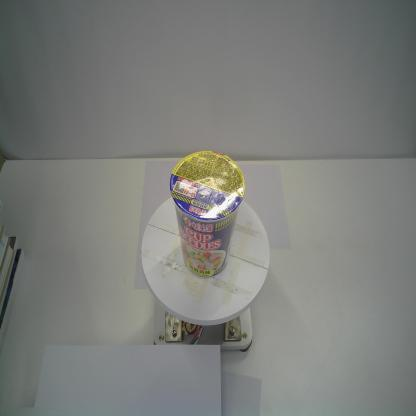Instant Noodles: (168, 146, 246, 280)
